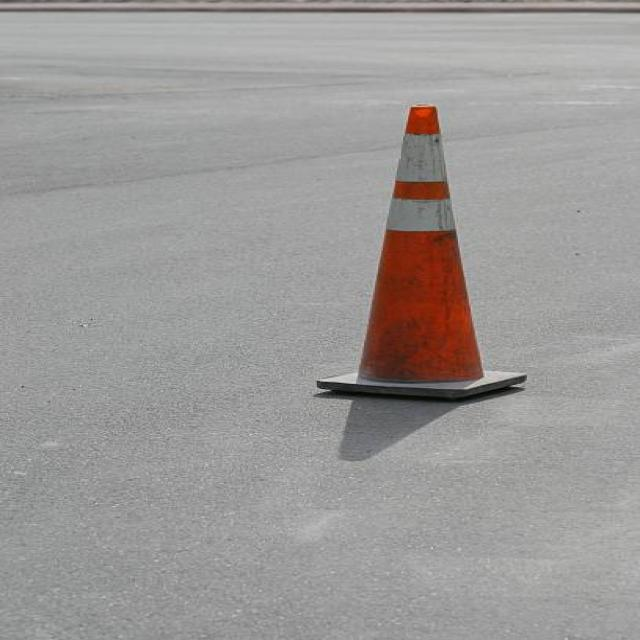Traffic Cone: (274, 84, 560, 420)
